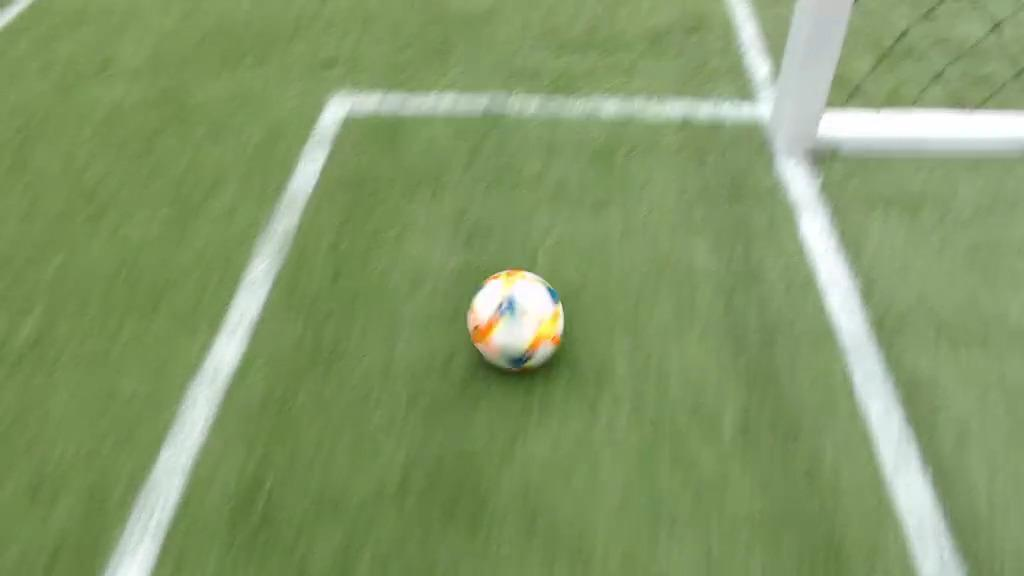ball: (466, 270, 564, 371)
